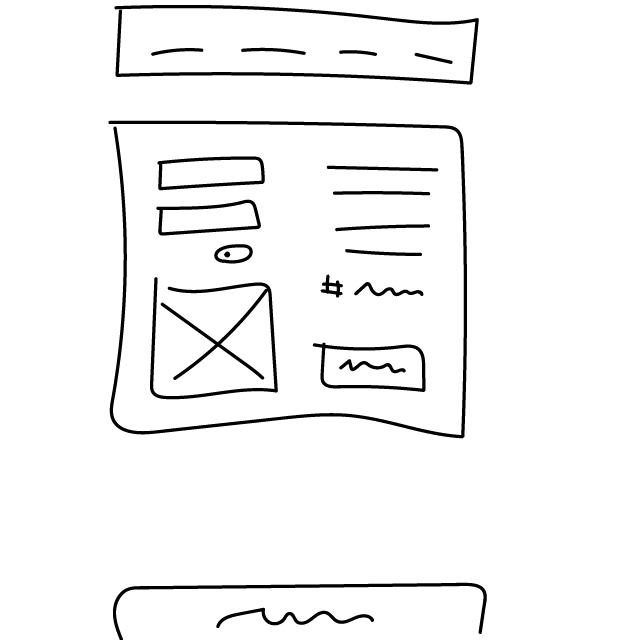button: (312, 337, 431, 398)
checkbox: (213, 243, 258, 267)
container: (99, 104, 482, 456)
footer: (101, 578, 497, 640)
frame: (148, 278, 290, 402)
heading: (318, 273, 432, 307)
input: (153, 199, 266, 237), (156, 158, 267, 194)
nav: (108, 4, 486, 90)
text: (319, 158, 446, 267)
